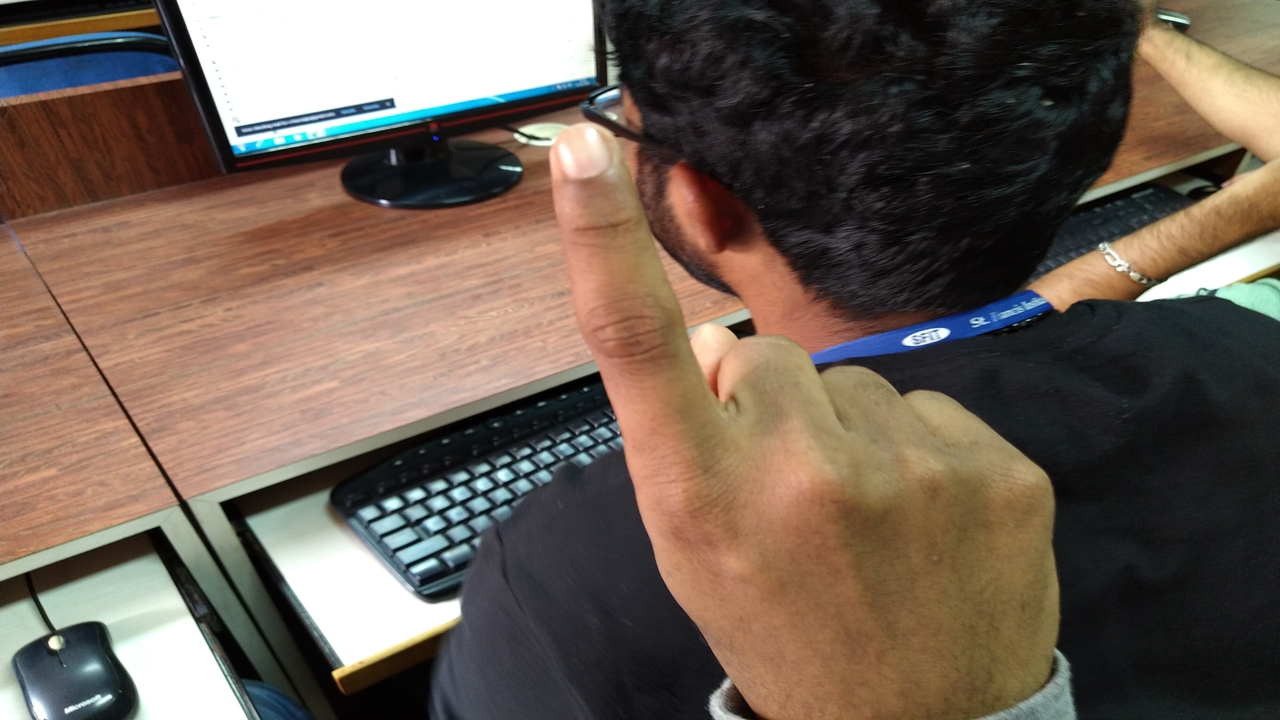fingertip: (540, 116, 614, 190)
